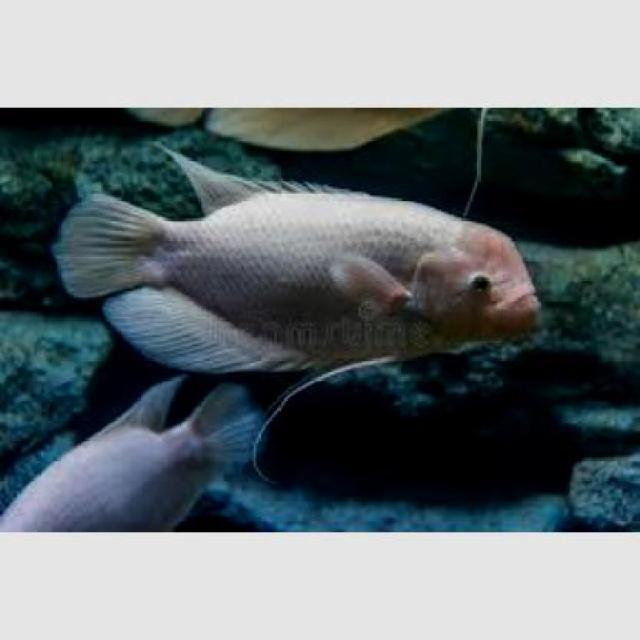gurame: (52, 166, 545, 368), (0, 364, 265, 528)
